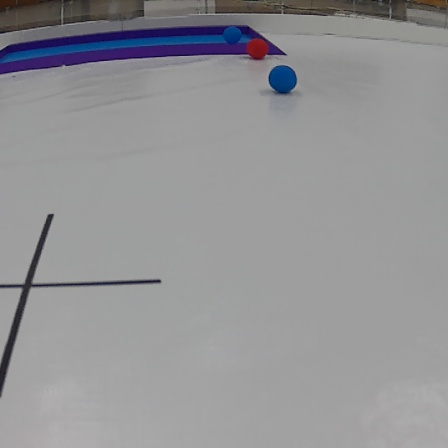blue: (269, 66, 301, 94), (221, 28, 242, 46)
blue_aim: (0, 25, 293, 75)
red: (246, 38, 270, 58)
